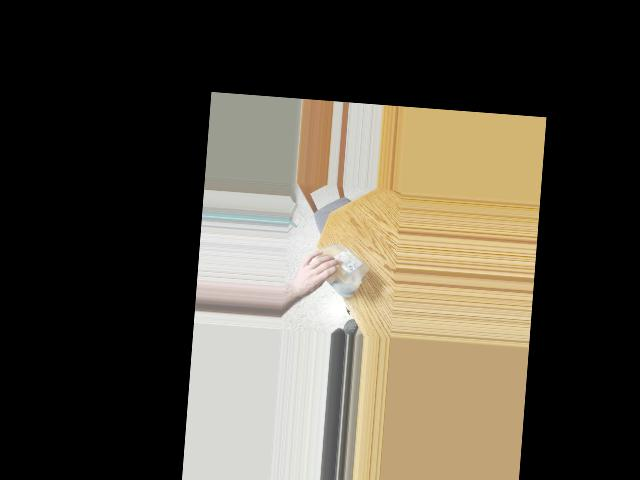cheese: (301, 239, 371, 296)
